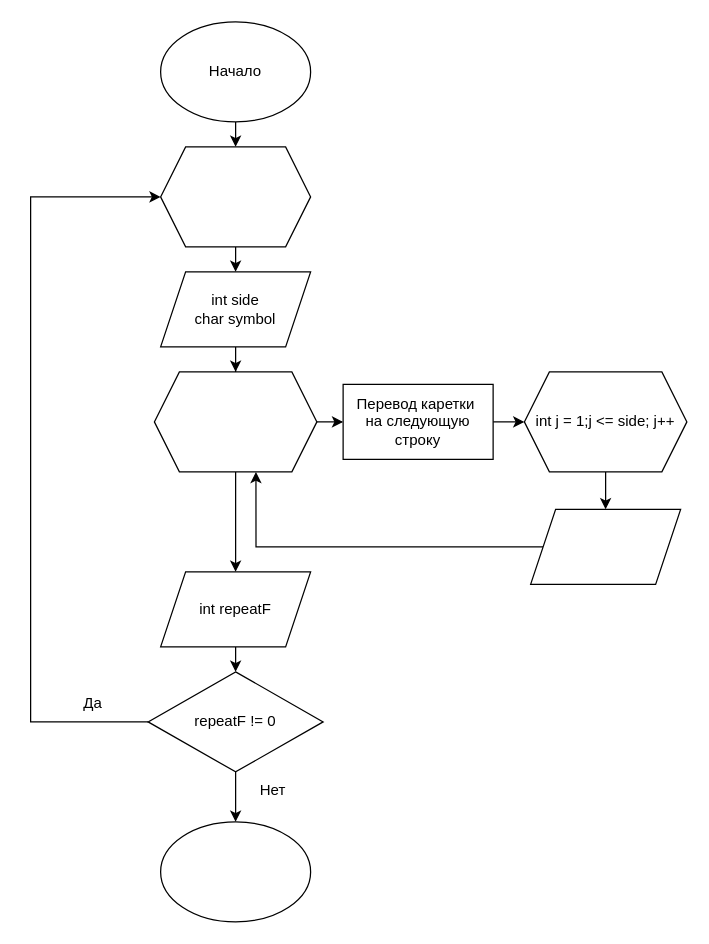
Some shapes in this 709 by 944 pixel diagram are drawn without their labels. The shapes that lost their labels are listed below. From the top down, each one's centre as x and y in pixels, then its label:
(x=235, y=421): int i = 1;i <= side; i++
(x=605, y=546): symbol
(x=235, y=871): Конец
